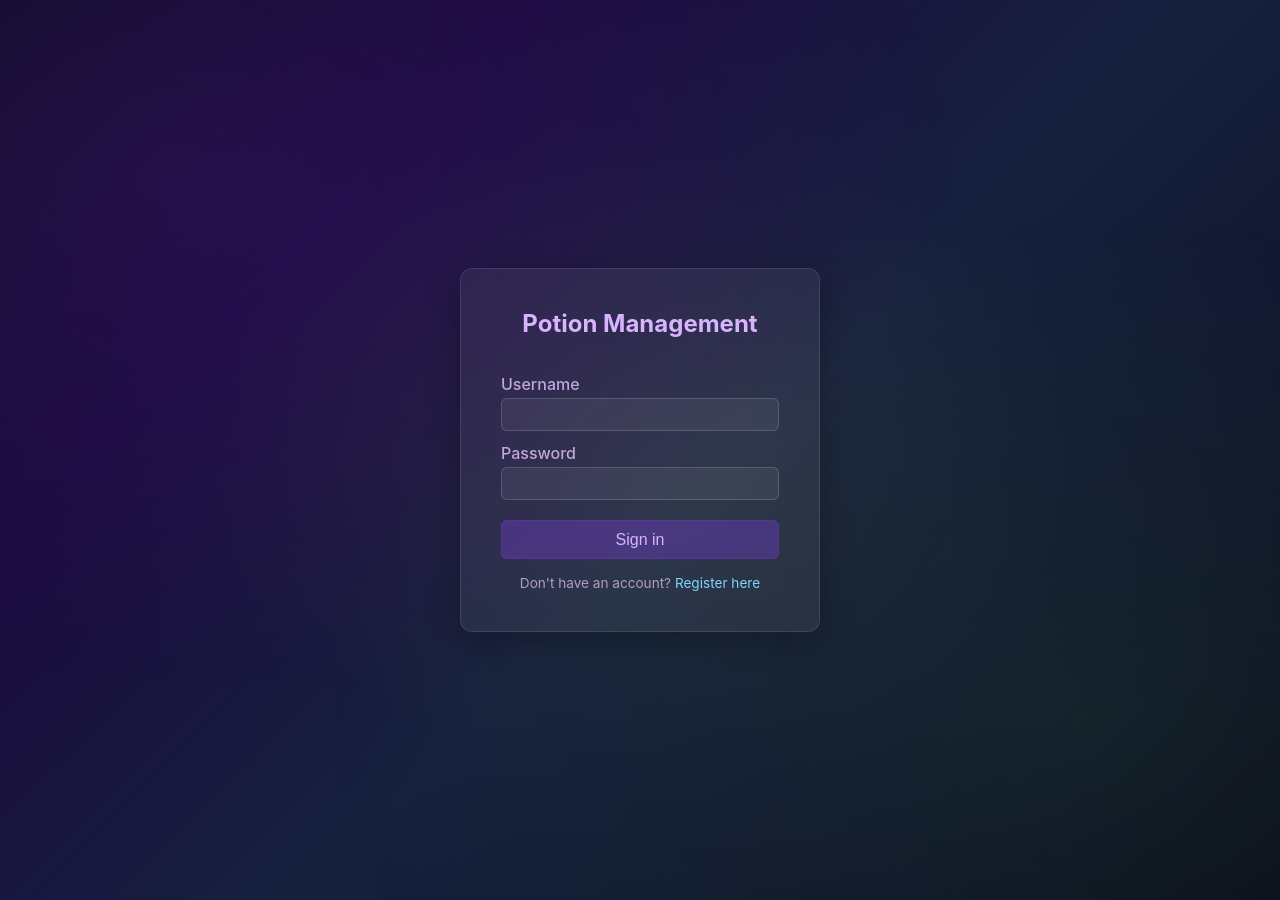
LoginComponent › toggles to register form
Step 1. Click the button "Register here" → (718, 583), box x1=675 y1=575 x2=760 y2=591
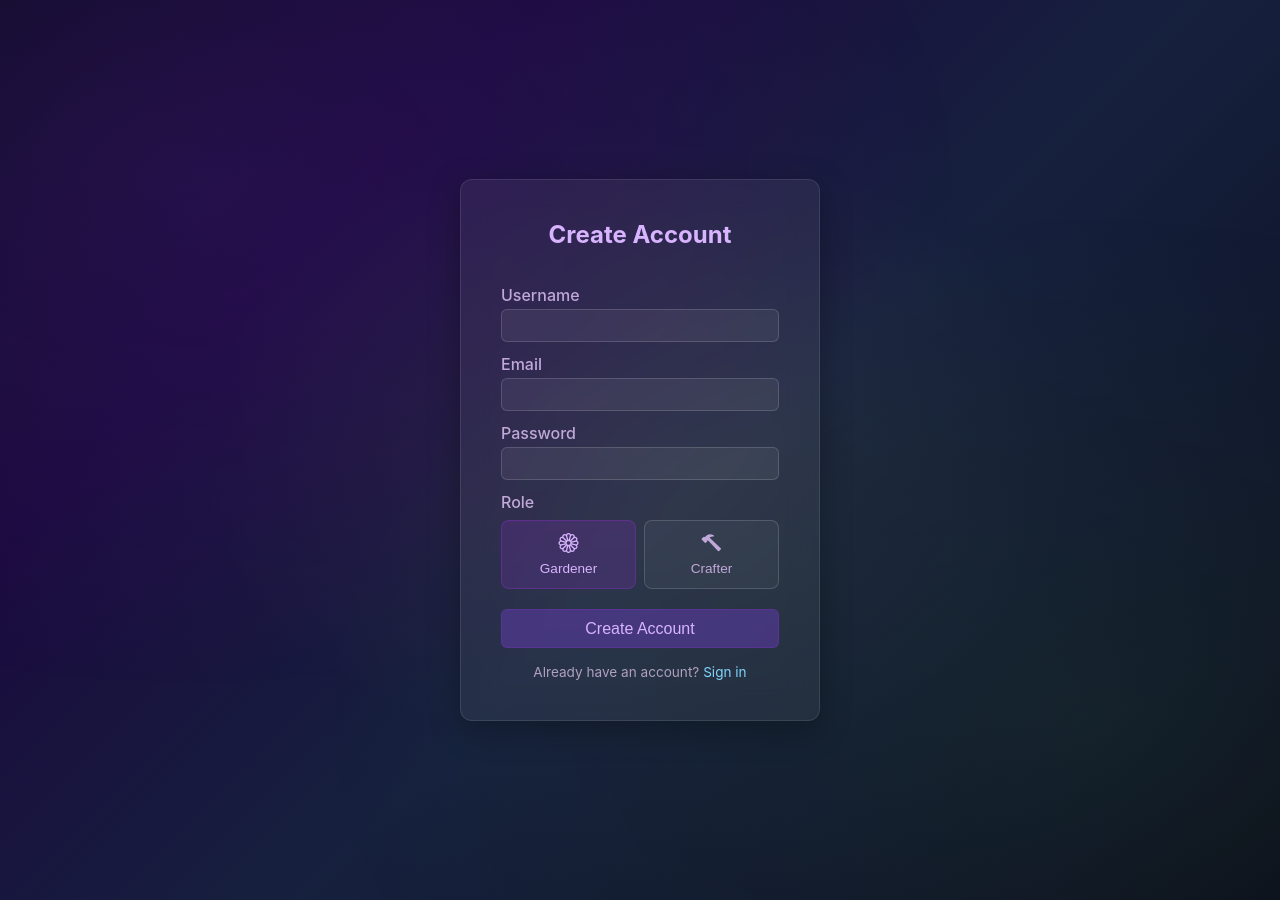
Expected: the heading "Create Account" is shown, x1=548 y1=220 x2=732 y2=249
